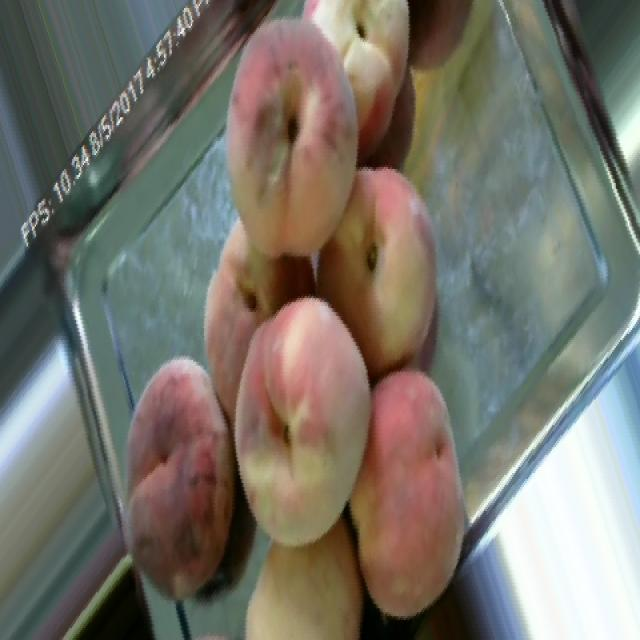Fruit: (185, 0, 387, 286), (213, 274, 404, 570), (317, 348, 500, 636), (98, 338, 266, 638), (293, 139, 472, 388), (218, 517, 370, 640)
